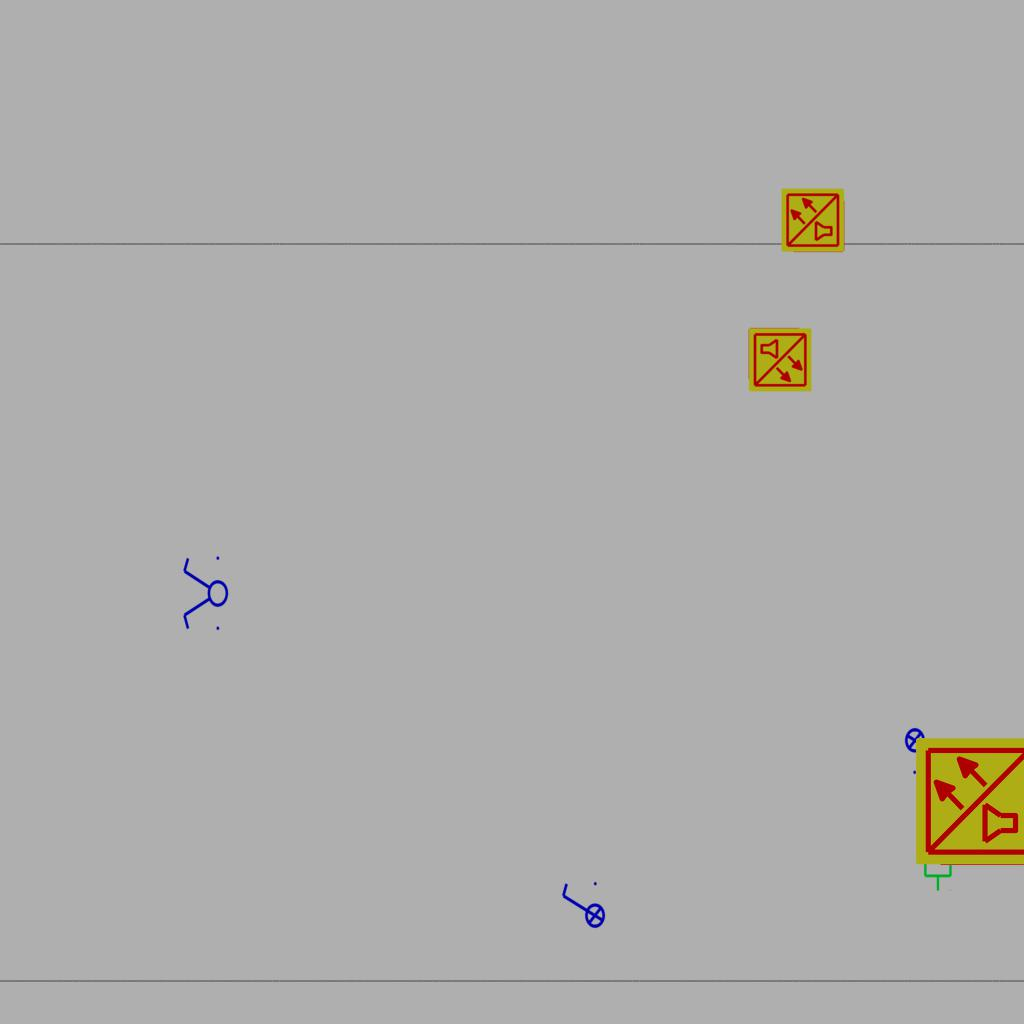Ausschalter_beleuchtet: (558, 879, 606, 935), (904, 721, 952, 777)
Datenanschluss_einfach: (920, 842, 954, 892)
OKW_Multisensormelder_(Kombination_optischer_Rauch-Kahlenmonoxid_Waerme-Melder): (913, 735, 1024, 867), (780, 187, 846, 253), (747, 327, 813, 393)
Serienschalter: (181, 552, 229, 636)
